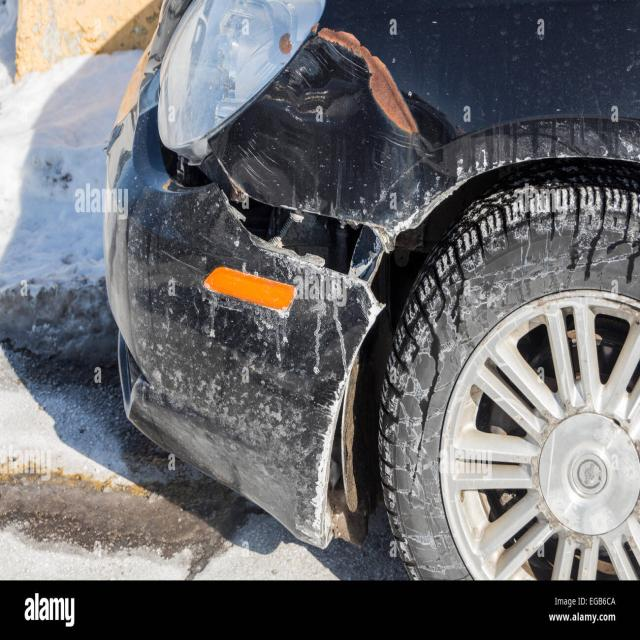misalignment: (138, 105, 390, 309)
scratch: (257, 25, 436, 172), (307, 295, 382, 536), (232, 126, 285, 190)
